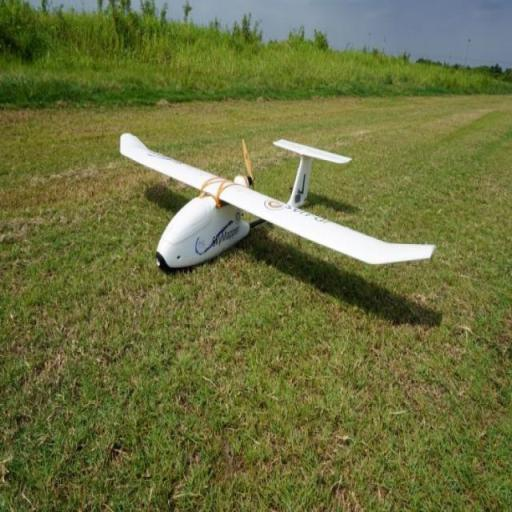uav: (113, 120, 439, 314)
